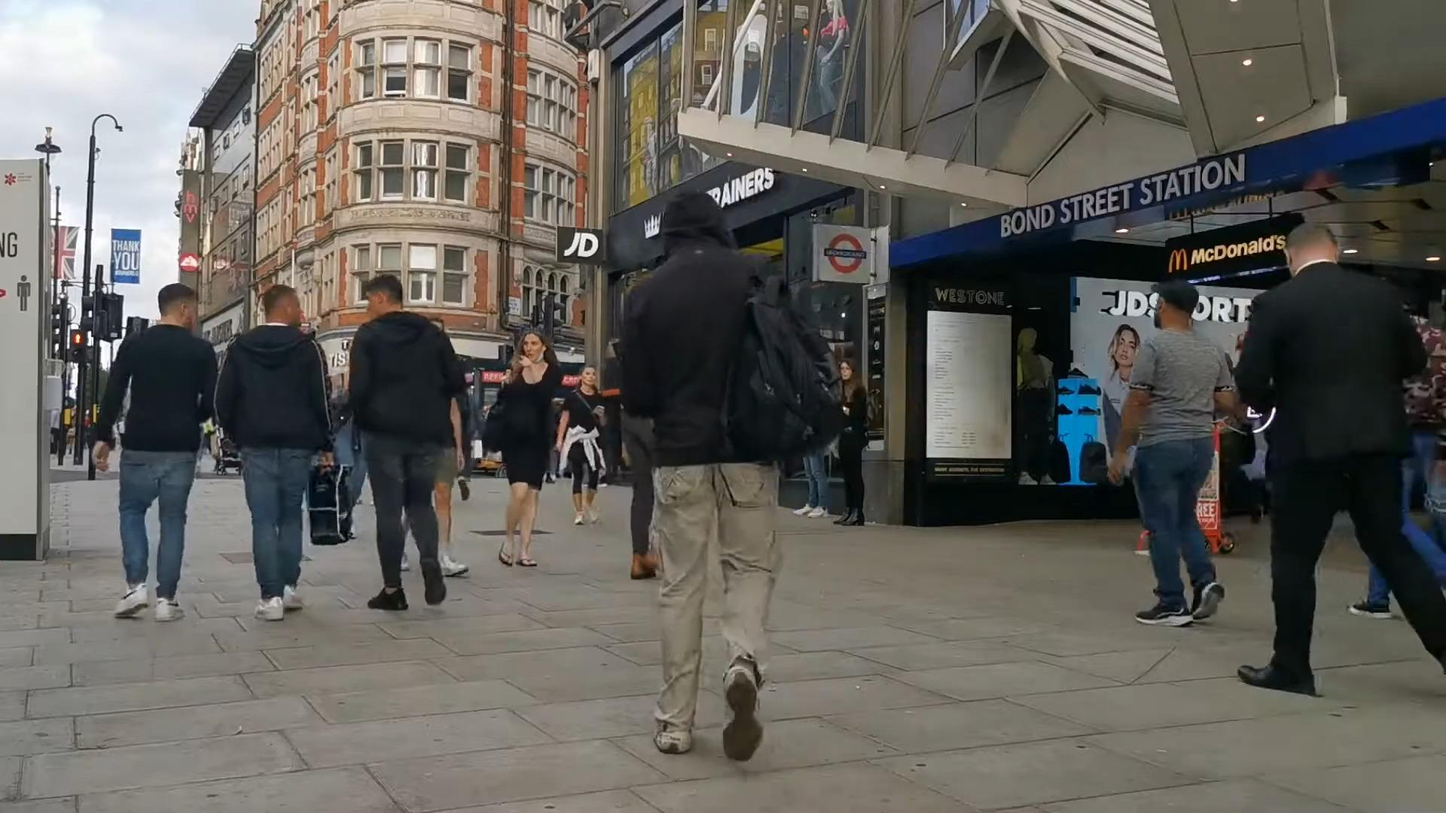no-helmet: (662, 189, 736, 260), (1283, 222, 1338, 279), (1151, 279, 1199, 330), (264, 285, 305, 327), (158, 283, 196, 327), (367, 274, 404, 319), (517, 330, 552, 364), (578, 365, 596, 387), (838, 358, 855, 381)
